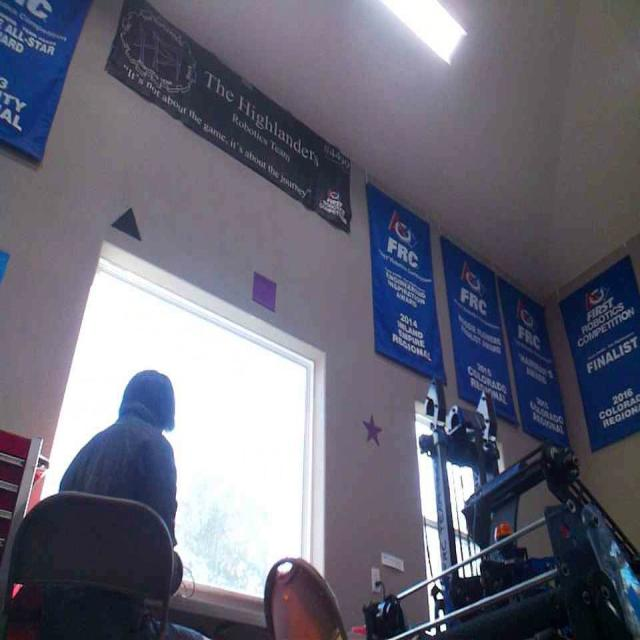square_purple: (251, 270, 276, 313)
star_purple: (362, 411, 381, 446)
triangle_black: (111, 206, 140, 238)
